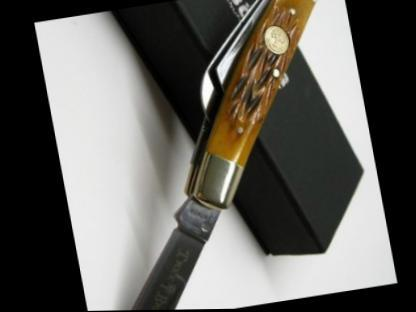knife: (68, 183, 242, 310)
